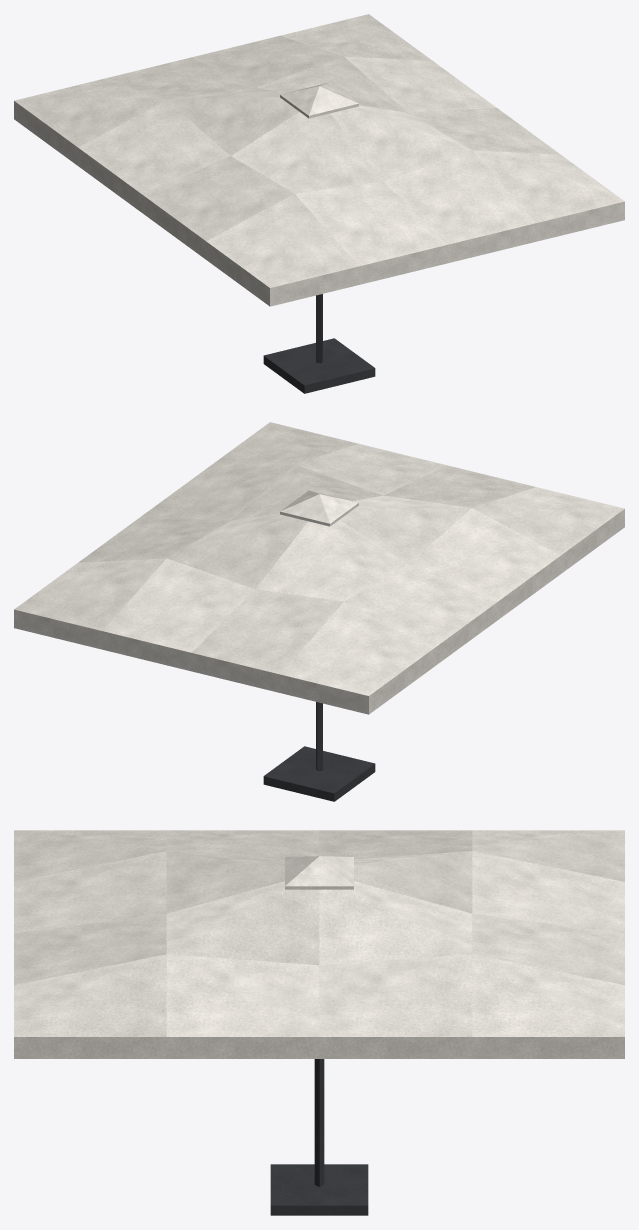
The model's file is SM_Morin_Ombrellone_LOD2.fbx.
The picture shows the model from 3 angles, top to bottom: view 1: azimuth 30°, elevation 25°; view 2: azimuth 150°, elevation 25°; view 3: azimuth 270°, elevation 25°; orthographic projection. The views are drawn at different scales.
Visible parts, largest first — view 1: SM_Morin_Ombrellone_LOD2; view 2: SM_Morin_Ombrellone_LOD2; view 3: SM_Morin_Ombrellone_LOD2.
Boxes of the visible parts, x1,y1,x2,y2 form: SM_Morin_Ombrellone_LOD2: [14, 14, 624, 393]; SM_Morin_Ombrellone_LOD2: [14, 422, 624, 801]; SM_Morin_Ombrellone_LOD2: [14, 830, 624, 1215].
Size of the model in its own units: 400 by 500 by 306.
1 material, 1 textured.
